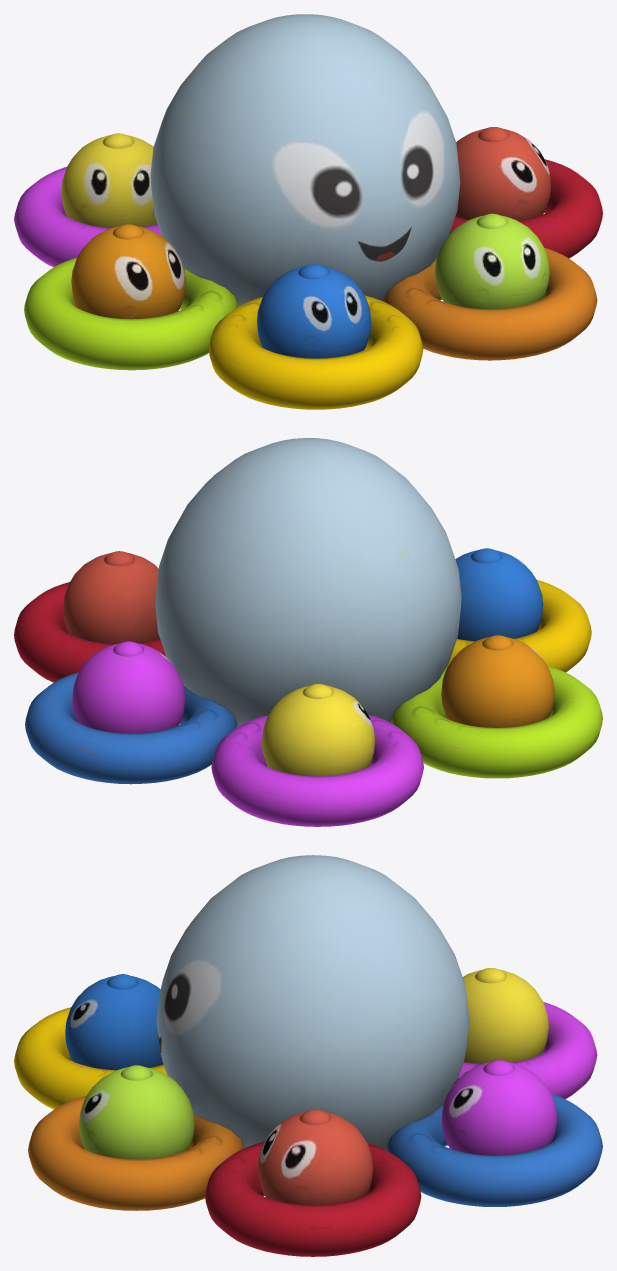
The model's file is octopus_toy.glb.
The picture shows the model from 3 angles, top to bottom: view 1: azimuth 30°, elevation 25°; view 2: azimuth 150°, elevation 25°; view 3: azimuth 270°, elevation 25°; orthographic projection.
Parts seen in each view (by area): view 1: Object_2; view 2: Object_2; view 3: Object_2.
Boxes of the visible parts, left/top/right/bottom form: Object_2: left=14, top=14, right=602, bottom=409; Object_2: left=14, top=438, right=602, bottom=826; Object_2: left=14, top=855, right=602, bottom=1256.
Size of the model in its own units: 6.46 by 2.98 by 5.85.
1 material, 1 textured.
